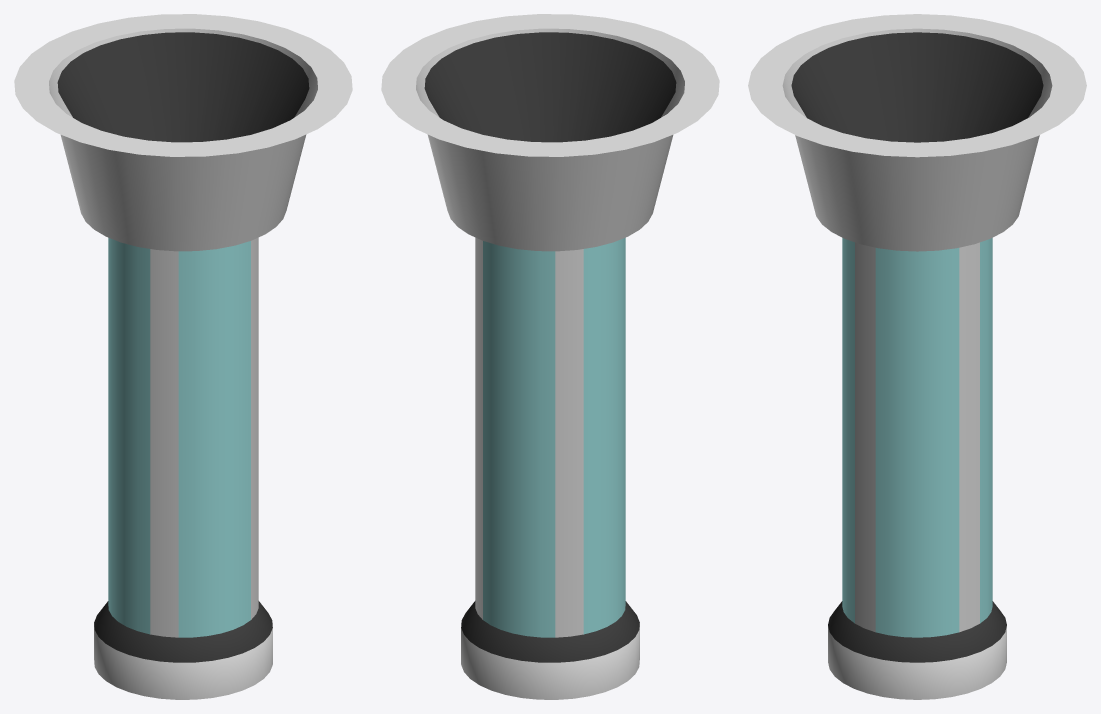
The model's file is Spawn Tube.fbx.
The picture shows the model from 3 angles, left to right: view 1: azimuth 30°, elevation 25°; view 2: azimuth 150°, elevation 25°; view 3: azimuth 270°, elevation 25°; orthographic projection.
Parts seen in each view (by area): view 1: Circle; view 2: Circle; view 3: Circle.
Boxes of the visible parts, x1,y1,x2,y2 form: Circle: (14,14,352,699); Circle: (381,14,719,699); Circle: (748,14,1086,699).
Bounding box in the file's own units: 379 × 711 × 379.
